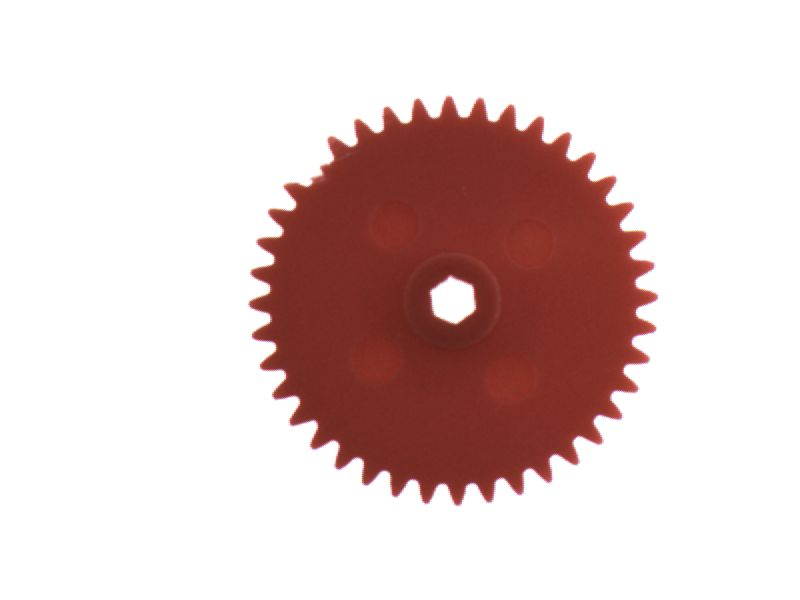defect_lack: (287, 138, 349, 196)
